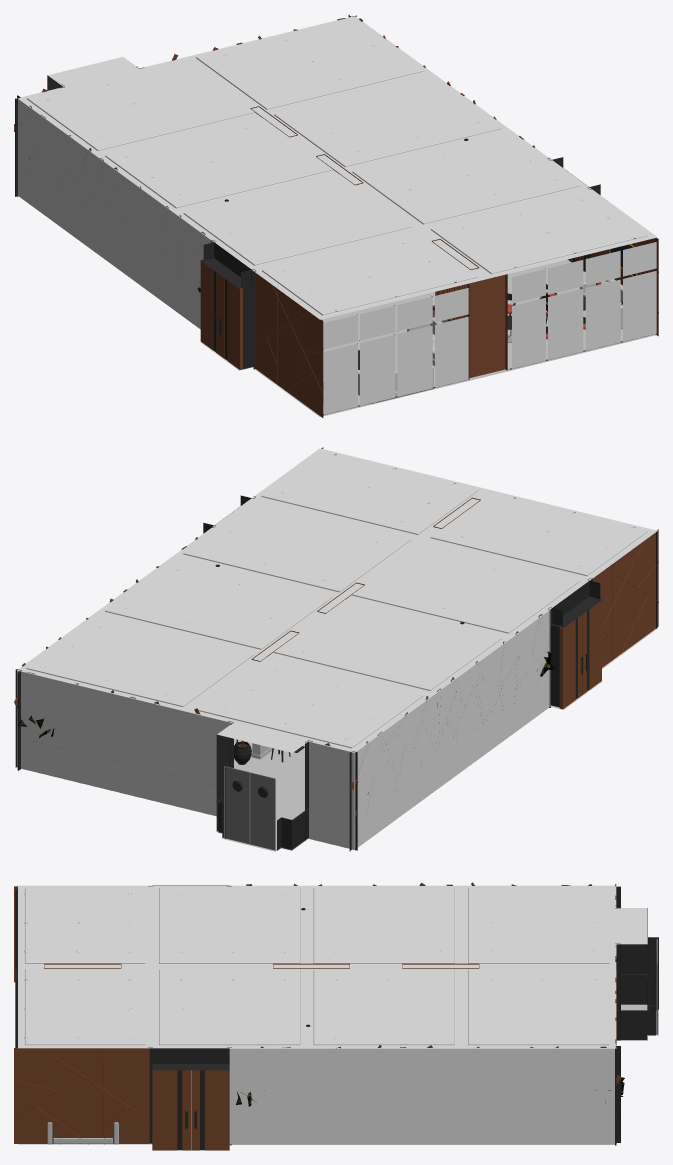
Rendered from restaurant.fbx.
3 views of the same model, one above another, from view 1: azimuth 30°, elevation 25°; view 2: azimuth 150°, elevation 25°; view 3: azimuth 270°, elevation 25° (orthographic).
Parts seen in each view (by area): view 1: walls, windows, Cube.008, Cube.022, Cube.018; view 2: walls, Cube.008, door, Cube.022, Cube.018, Cube.027, Cube.023; view 3: walls, Cube.008, Cube.022, Cube.018, Cube.023, Cube.027, sofa, windows.
Boxes of the visible parts, box(x1,y1,x2,y2) form: walls: box(18, 16, 657, 417); windows: box(323, 239, 656, 415); Cube.008: box(255, 238, 658, 417); Cube.022: box(200, 254, 587, 369); Cube.018: box(200, 157, 600, 369); walls: box(17, 448, 657, 851); Cube.008: box(321, 447, 658, 667); door: box(224, 766, 275, 850); Cube.022: box(559, 600, 601, 709); Cube.018: box(203, 495, 602, 707); Cube.027: box(15, 669, 357, 851); Cube.023: box(216, 798, 355, 850); walls: box(18, 885, 658, 1150); Cube.008: box(14, 886, 149, 1144); Cube.022: box(152, 1070, 229, 1150); Cube.018: box(148, 885, 231, 1143); Cube.023: box(616, 974, 655, 1113); Cube.027: box(615, 884, 620, 1145); sofa: box(47, 1122, 118, 1144); windows: box(15, 888, 17, 1047).
Bounding box in the file's own units: 1346 × 363 × 2074.
